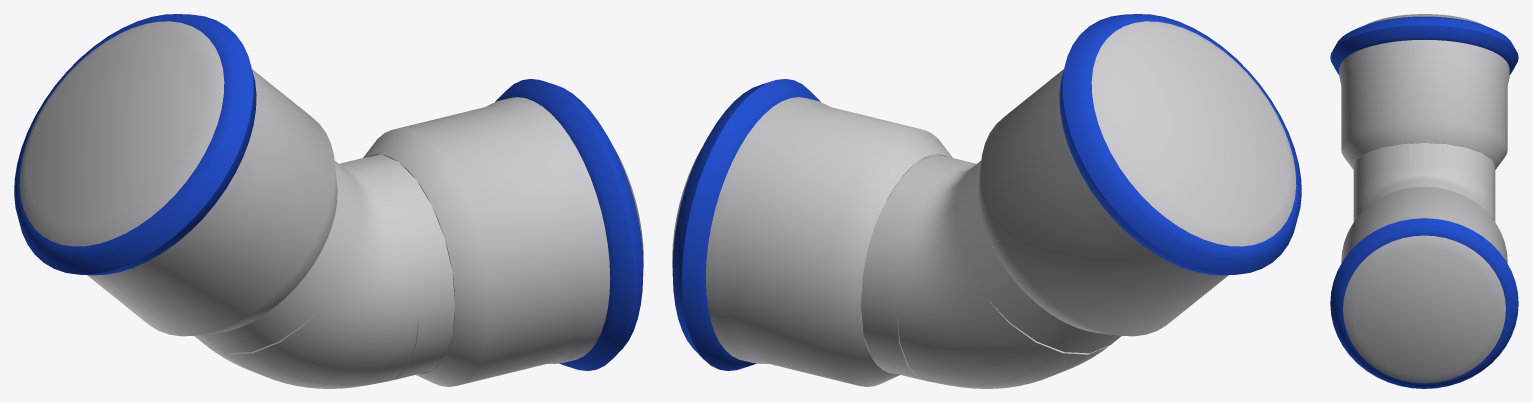
File: fitting_e45_28.glb
3 views of the same model, side by side, from view 1: azimuth 30°, elevation 25°; view 2: azimuth 150°, elevation 25°; view 3: azimuth 270°, elevation 25° (orthographic). The views are drawn at different scales.
Parts seen in each view (by area): view 1: раструб.001, раструб, изгиб, кольцо пресс.001, кольцо пресс, корпус, корпус.001; view 2: раструб.001, раструб, изгиб, кольцо пресс.001, кольцо пресс, корпус, корпус.001; view 3: раструб, раструб.001, кольцо пресс, кольцо пресс.001, корпус.001, изгиб, корпус.
Part boxes in pixels (left/top/right/bottom): раструб.001: left=19, top=21, right=337, bottom=336; раструб: left=363, top=97, right=643, bottom=386; изгиб: left=206, top=163, right=419, bottom=388; кольцо пресс.001: left=14, top=14, right=256, bottom=275; кольцо пресс: left=495, top=79, right=643, bottom=370; корпус: left=339, top=154, right=455, bottom=379; корпус.001: left=194, top=161, right=362, bottom=353; раструб.001: left=978, top=21, right=1296, bottom=336; раструб: left=672, top=97, right=952, bottom=386; изгиб: left=896, top=163, right=1109, bottom=388; кольцо пресс.001: left=1059, top=14, right=1301, bottom=275; кольцо пресс: left=672, top=79, right=820, bottom=370; корпус: left=860, top=154, right=976, bottom=379; корпус.001: left=954, top=161, right=1121, bottom=353; раструб: left=1341, top=186, right=1507, bottom=383; раструб.001: left=1339, top=14, right=1509, bottom=169; кольцо пресс: left=1330, top=218, right=1518, bottom=388; кольцо пресс.001: left=1330, top=16, right=1518, bottom=74; корпус.001: left=1353, top=143, right=1495, bottom=190; изгиб: left=1353, top=167, right=1495, bottom=221; корпус: left=1365, top=179, right=1483, bottom=208.
Bounding box in the file's own units: 0.0872 × 0.0638 × 0.0412.
